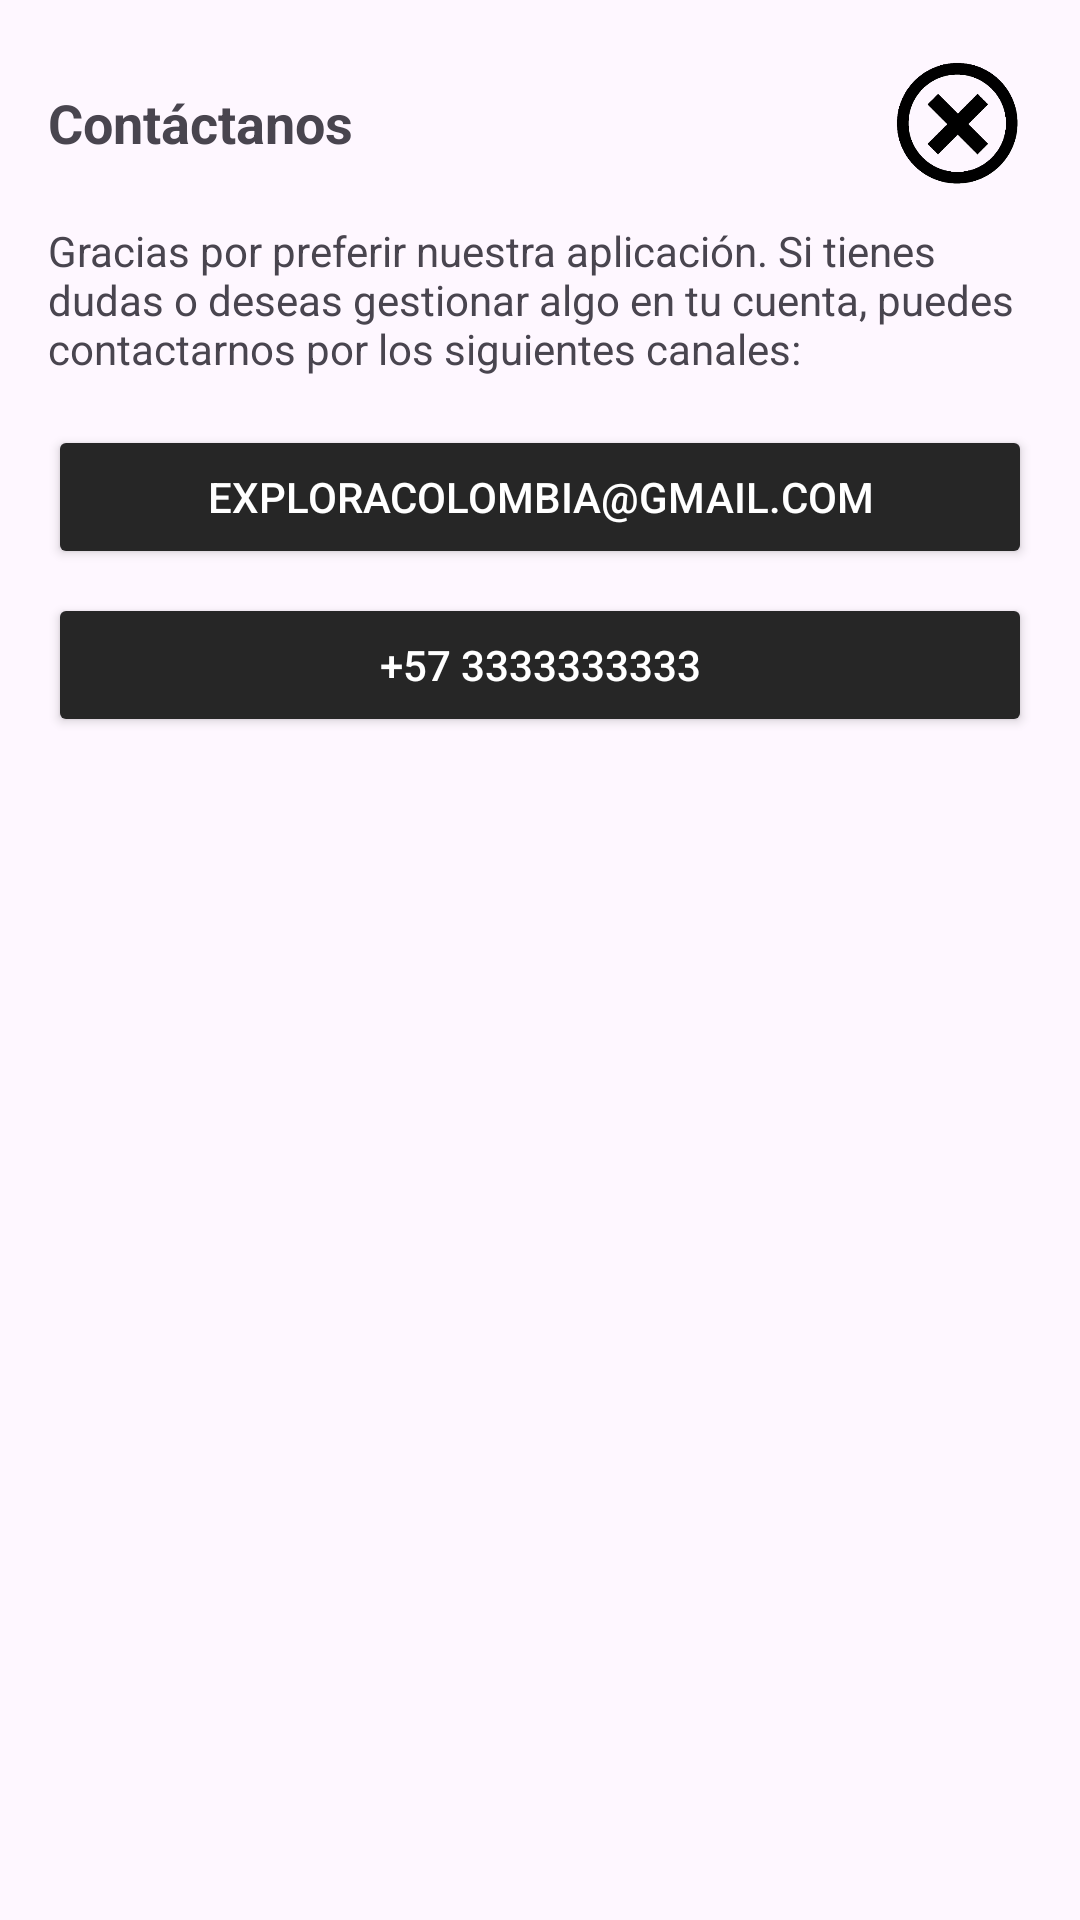

Where to tap for icons on this 1080 × 1920 app screen, as point (x, y):
Cerrar: point (957, 123)
